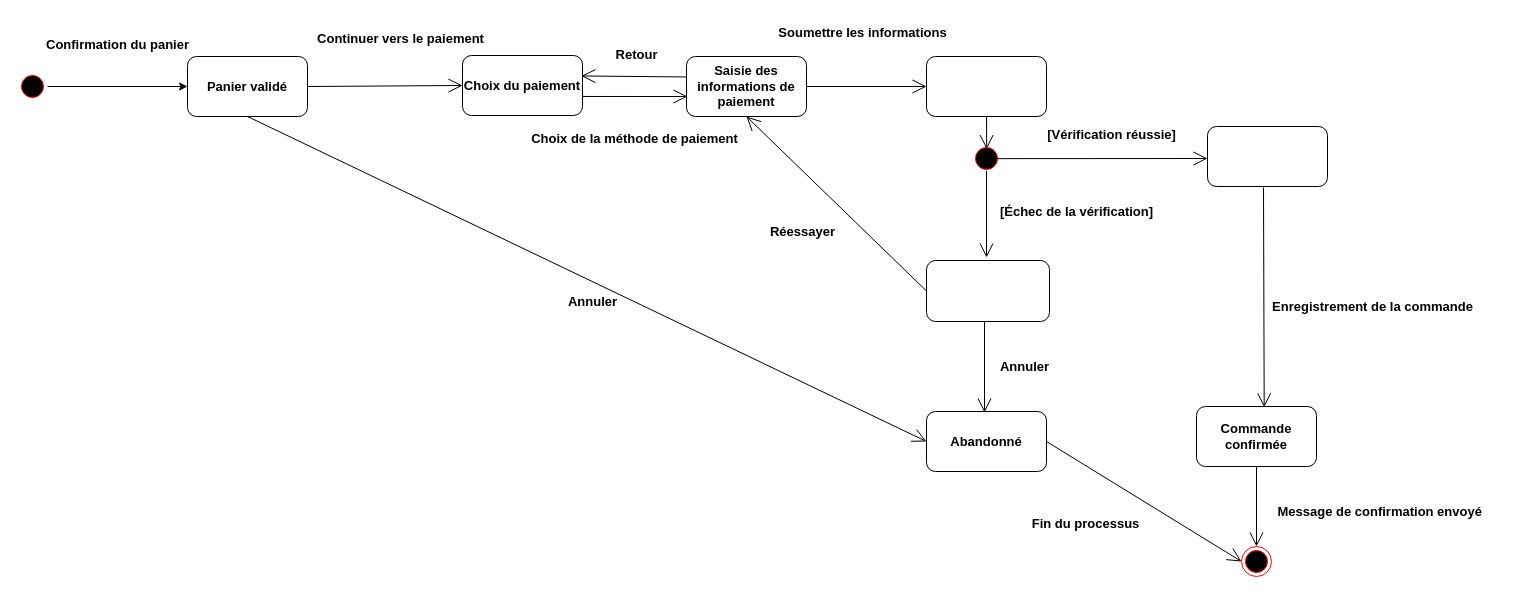
Some shapes in this 1514 by 594 pixel diagram are drawn without their labels. The shapes that lost their labels are listed below. From the top down, each one's centre as x and y in pixels, then its label:
the point at 986,86: Vérification du paiement
the point at 1267,156: Paiement accepté
the point at 988,291: Paiement refusé
